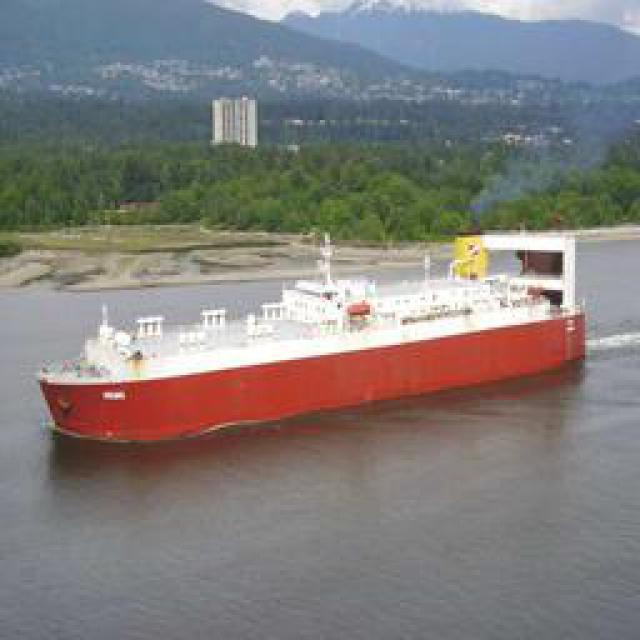Ship: (33, 220, 592, 450)
